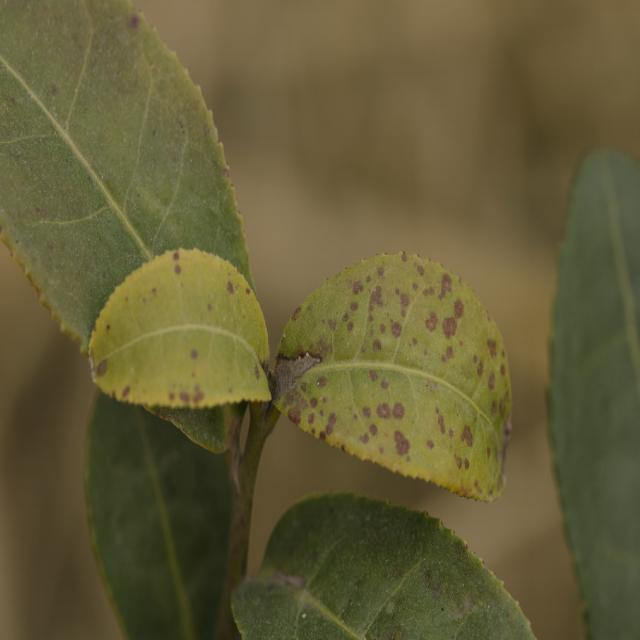Tea red scab: (290, 268, 518, 476), (101, 273, 266, 412)
